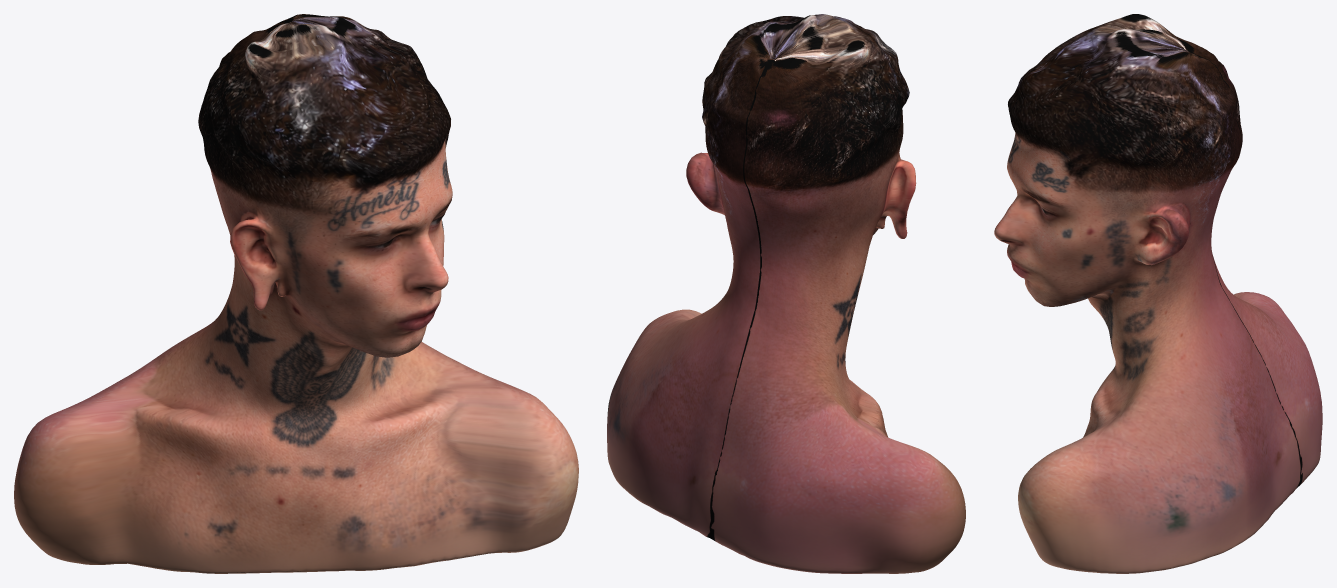
The model's file is FRANCO_L01_optimizado.glb.
3 views of the same model, side by side, from view 1: azimuth 30°, elevation 25°; view 2: azimuth 150°, elevation 25°; view 3: azimuth 270°, elevation 25° (orthographic). The views are drawn at different scales.
Visible parts, largest first — view 1: FRANCO_L01; view 2: FRANCO_L01; view 3: FRANCO_L01.
Boxes of the visible parts, bbox=[...] form: FRANCO_L01: bbox=[14, 14, 578, 573]; FRANCO_L01: bbox=[607, 14, 965, 573]; FRANCO_L01: bbox=[994, 14, 1322, 573].
Bounding box in the file's own units: 220 × 243 × 159.
1 material, 1 textured.
